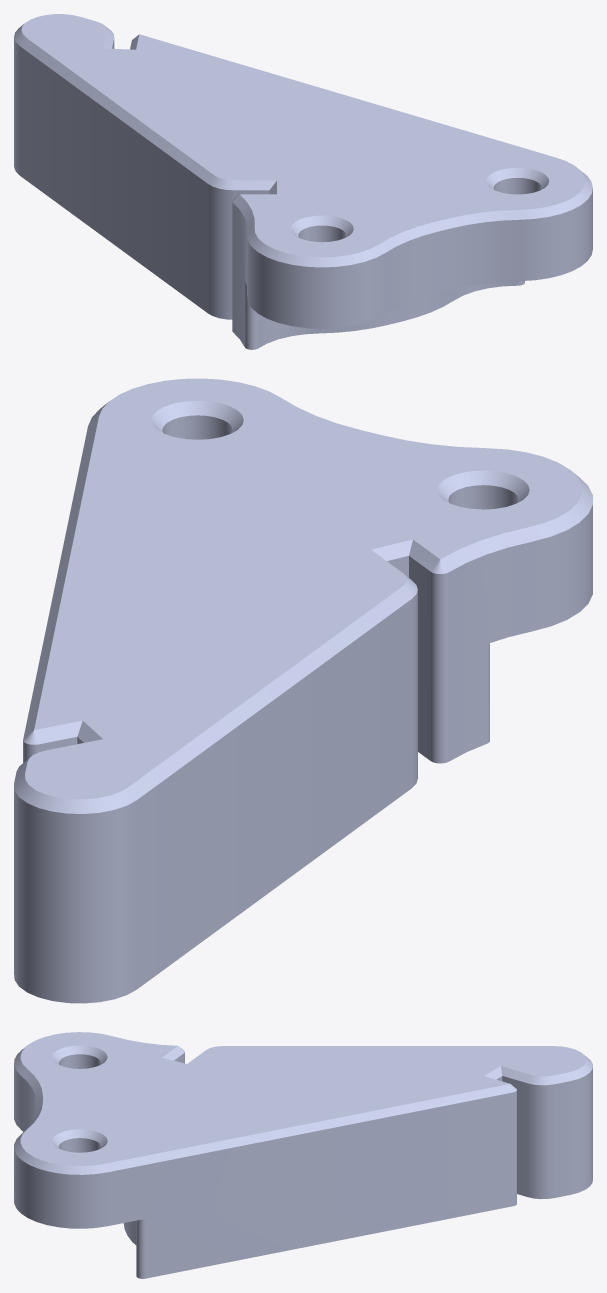
3 renders of one model, top to bottom at view 1: azimuth 30°, elevation 25°; view 2: azimuth 150°, elevation 25°; view 3: azimuth 270°, elevation 25°, orthographic. The views are drawn at different scales.
Parts seen in each view (by area): view 1: node0; view 2: node0; view 3: node0.
Boxes of the visible parts, bbox=[...] form: node0: bbox=[14, 14, 592, 349]; node0: bbox=[14, 378, 592, 1003]; node0: bbox=[14, 1032, 592, 1278].
Bounding box in the file's own units: 0.025 × 0.01 × 0.0438.
